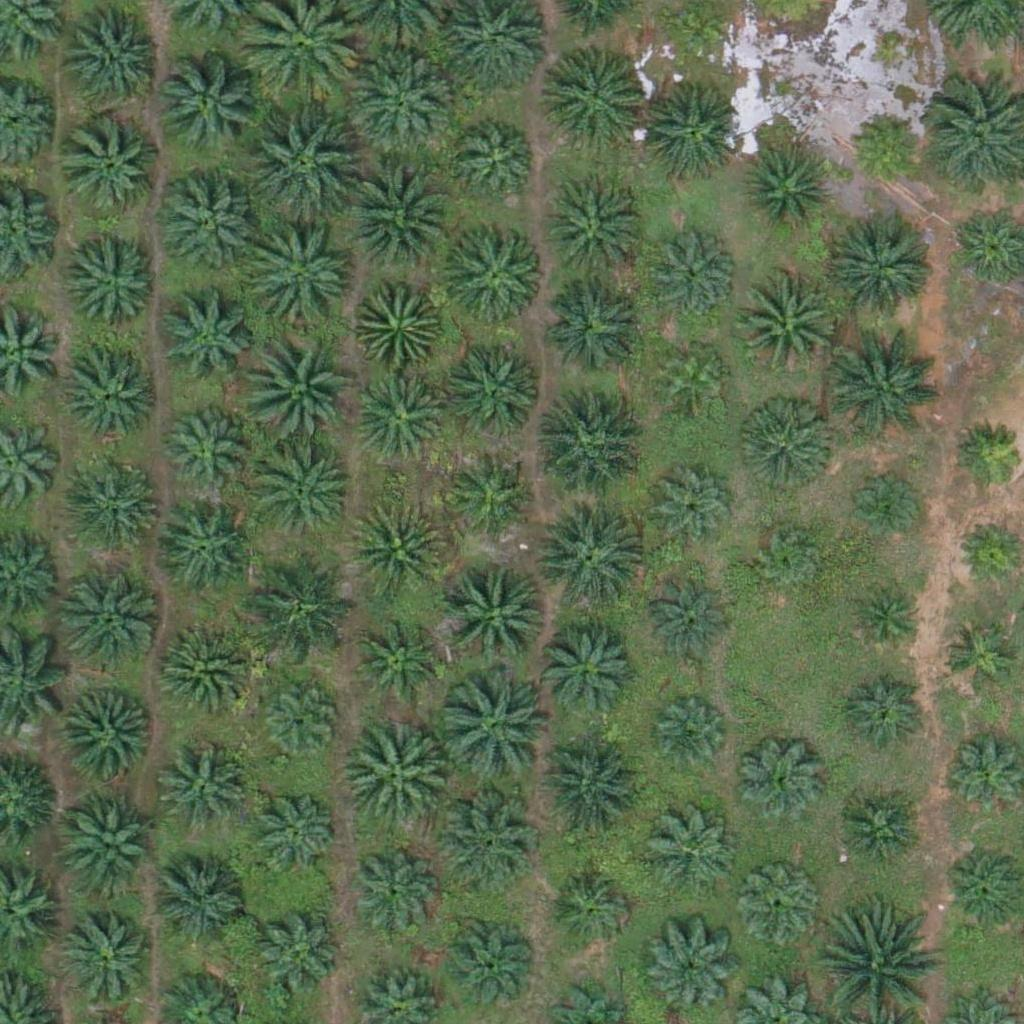Kelapa_Sawit: (528, 738, 641, 851), (437, 675, 550, 788), (248, 547, 361, 660), (248, 222, 361, 335), (247, 106, 360, 219), (348, 43, 460, 157), (443, 560, 555, 674), (337, 719, 449, 832), (247, 436, 359, 549), (242, 326, 354, 439), (340, 158, 452, 271), (529, 389, 641, 502), (530, 503, 642, 616), (831, 329, 943, 442), (537, 625, 637, 726), (434, 792, 534, 893), (151, 621, 251, 722), (153, 850, 253, 951), (61, 569, 161, 670), (60, 345, 160, 446), (62, 116, 162, 217), (158, 53, 258, 154), (153, 289, 253, 390), (156, 501, 256, 602), (346, 500, 446, 601), (445, 344, 545, 445), (444, 220, 544, 321), (546, 184, 646, 285), (544, 275, 644, 376), (637, 82, 737, 183), (736, 275, 836, 376), (833, 214, 933, 315), (58, 688, 158, 788), (59, 793, 159, 893), (68, 456, 168, 556), (63, 232, 163, 332), (70, 3, 170, 103), (157, 171, 257, 271), (543, 46, 643, 146), (737, 394, 837, 494), (841, 673, 929, 761), (829, 789, 917, 877), (645, 932, 733, 1020), (259, 678, 347, 766), (248, 785, 336, 873), (252, 913, 340, 1001), (445, 918, 533, 1006), (546, 864, 634, 952), (735, 865, 823, 953), (161, 746, 249, 834), (357, 370, 445, 458), (353, 621, 441, 709), (451, 445, 539, 533), (644, 578, 732, 666), (651, 460, 739, 548), (349, 846, 436, 934), (737, 736, 824, 824), (648, 809, 735, 897), (66, 912, 153, 1000), (163, 403, 250, 491), (355, 278, 442, 366), (456, 120, 543, 208), (649, 227, 736, 315), (743, 147, 830, 235), (847, 108, 922, 184), (652, 699, 727, 775), (850, 470, 925, 546), (848, 582, 923, 658), (656, 341, 731, 416), (940, 620, 1015, 695), (754, 525, 829, 600)
